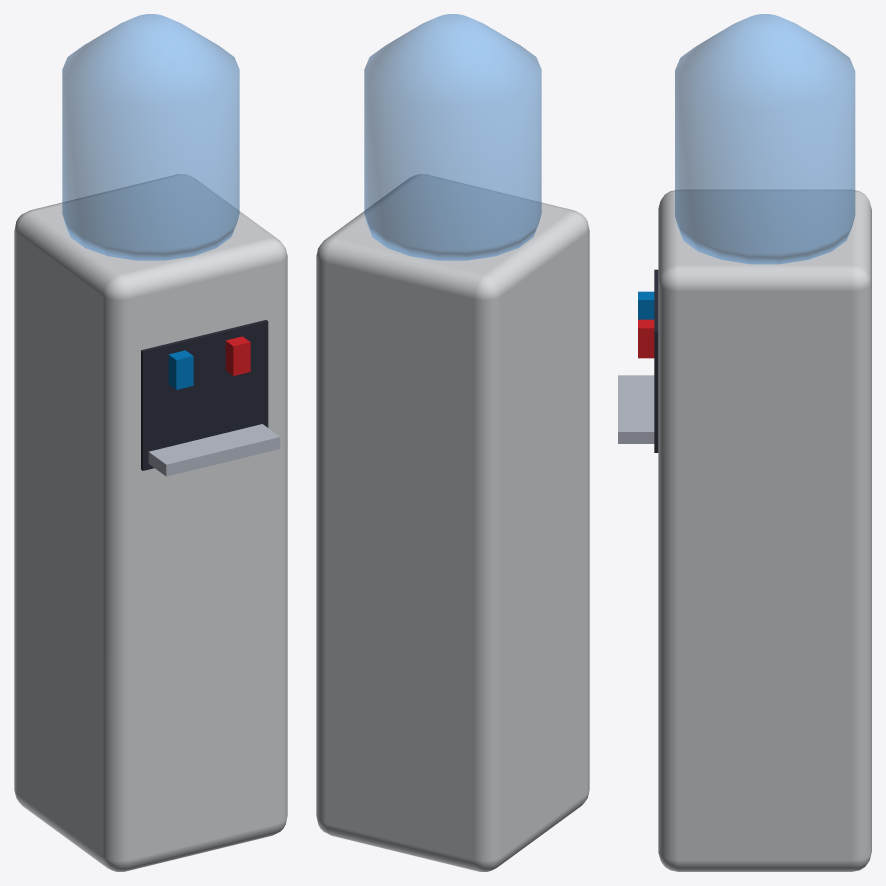
The model's file is ame-017.glb.
3 views of the same model, side by side, from view 1: azimuth 30°, elevation 25°; view 2: azimuth 150°, elevation 25°; view 3: azimuth 270°, elevation 25° (orthographic).
Visible parts, largest first — view 1: white, water_blue, plastic_dark, steel, accent_red, safety_blue; view 2: white, water_blue; view 3: white, water_blue, steel, plastic_dark, accent_red.
Part boxes in pixels (x1,y1,x2,y2): white: [14, 174, 287, 871]; water_blue: [62, 14, 239, 260]; plastic_dark: [141, 320, 268, 470]; steel: [148, 424, 280, 476]; accent_red: [225, 336, 250, 375]; safety_blue: [168, 350, 193, 389]; white: [316, 174, 589, 871]; water_blue: [364, 14, 541, 260]; white: [658, 189, 871, 871]; water_blue: [675, 14, 855, 264]; steel: [618, 375, 654, 443]; plastic_dark: [654, 269, 658, 452]; accent_red: [638, 319, 654, 358].
Bounding box in the file's own units: 0.32 × 1.34 × 0.38.
